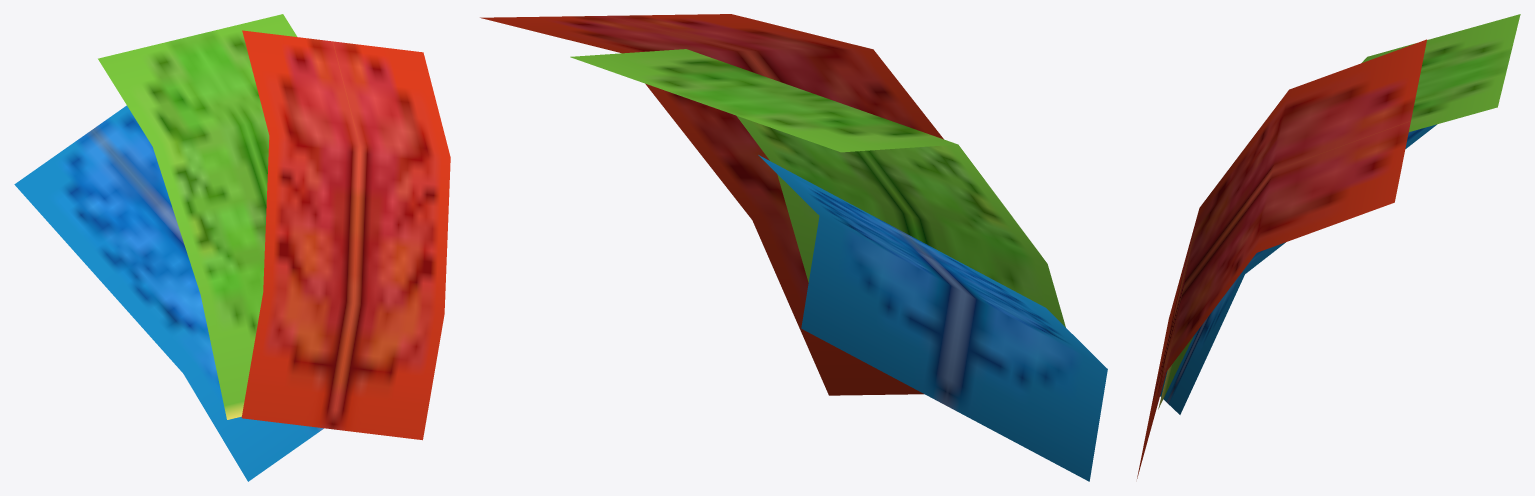
Rendered from fg_plume_out.dae.
The picture shows the model from 3 angles, left to right: view 1: azimuth 30°, elevation 25°; view 2: azimuth 150°, elevation 25°; view 3: azimuth 270°, elevation 25°; orthographic projection. The views are drawn at different scales.
Visible parts, largest first — view 1: fg_plume_out; view 2: fg_plume_out; view 3: fg_plume_out.
Boxes of the visible parts, <box> form: fg_plume_out: <box>14,14,450,481</box>; fg_plume_out: <box>480,14,1107,481</box>; fg_plume_out: <box>1137,14,1520,478</box>.
Size of the model in its own units: 15.38 by 13.34 by 11.2.
1 material, 1 textured.
